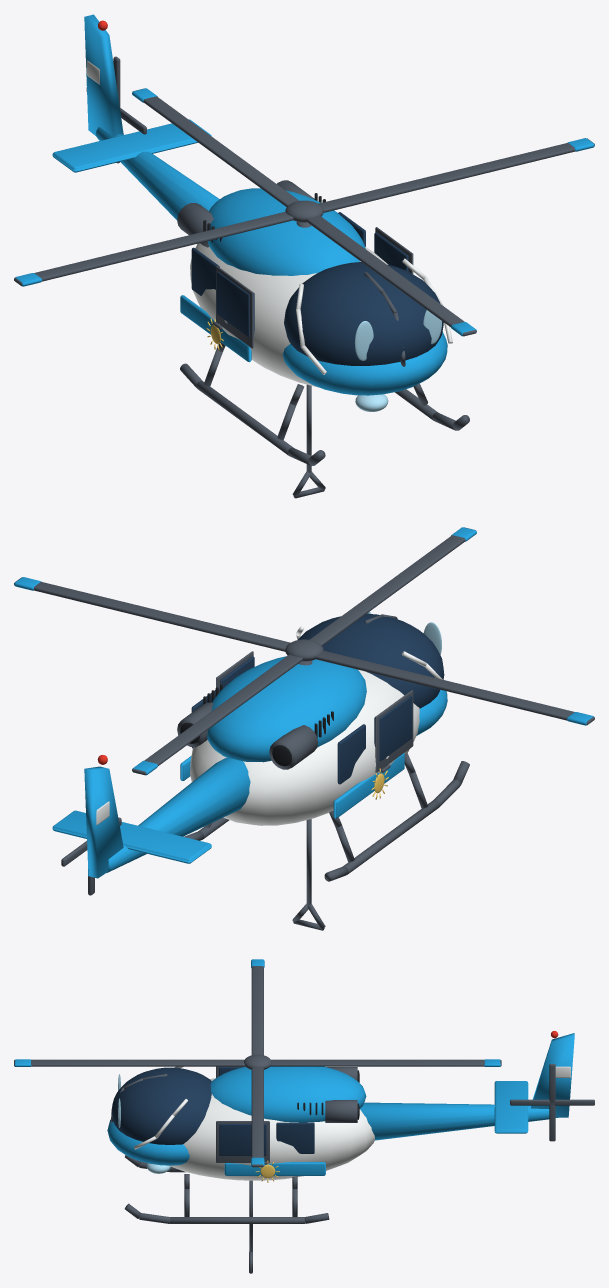
The model's file is presidential-rescue.glb.
The picture shows the model from 3 angles, top to bottom: view 1: azimuth 30°, elevation 25°; view 2: azimuth 150°, elevation 25°; view 3: azimuth 270°, elevation 25°; orthographic projection. The views are drawn at different scales.
Visible parts, largest first — view 1: rescue_aircraft, rotor; view 2: rescue_aircraft, rotor; view 3: rescue_aircraft, rotor, tail_rotor.
Boxes of the visible parts, x1,y1,x2,y2 form: rescue_aircraft: (52,14,469,498); rotor: (14,88,594,336); rescue_aircraft: (52,611,469,930); rotor: (14,527,594,775); rescue_aircraft: (107,1031,574,1273); rotor: (14,959,501,1167); tail_rotor: (510,1064,594,1141).
Bounding box in the file's own units: 7.23 × 3.88 × 8.62.
